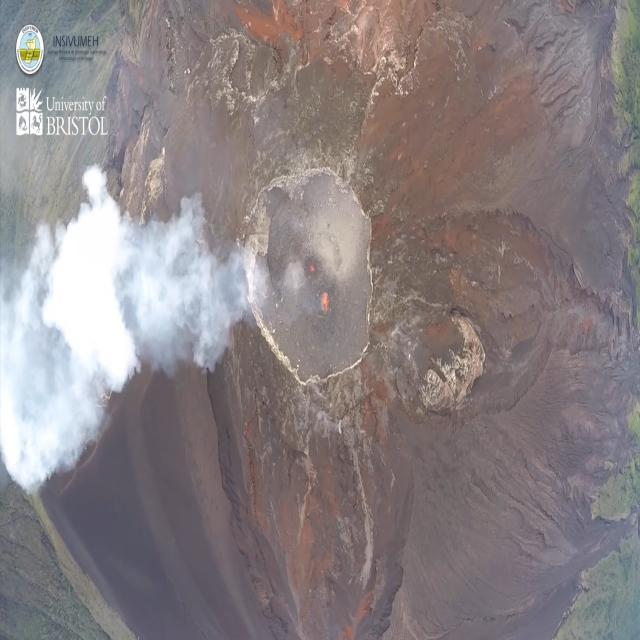Plume: (0, 155, 232, 498)
Summit: (236, 150, 390, 398)
